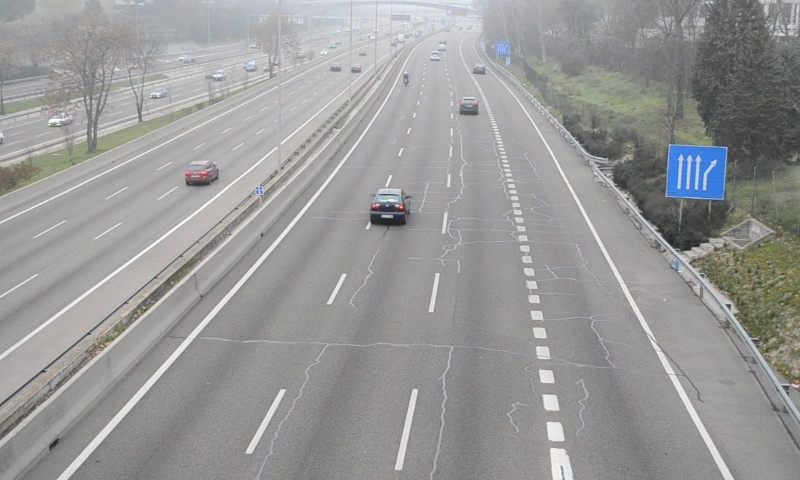car: (371, 188, 410, 225), (460, 96, 479, 115)
motorcycle: (402, 70, 409, 87)
